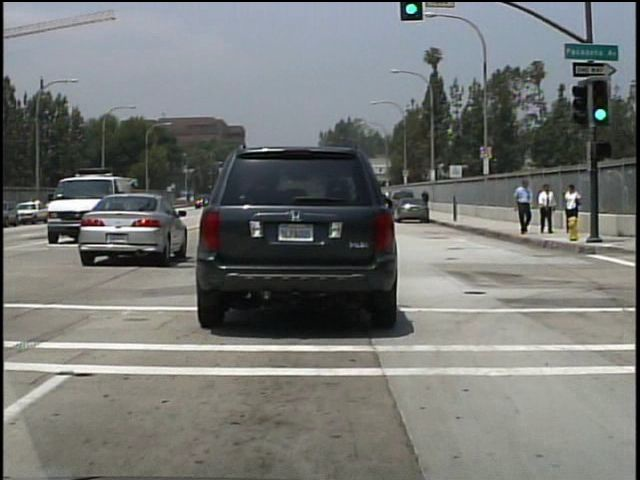person: (513, 176, 534, 236), (538, 181, 559, 234), (562, 181, 584, 216), (420, 187, 432, 213)
